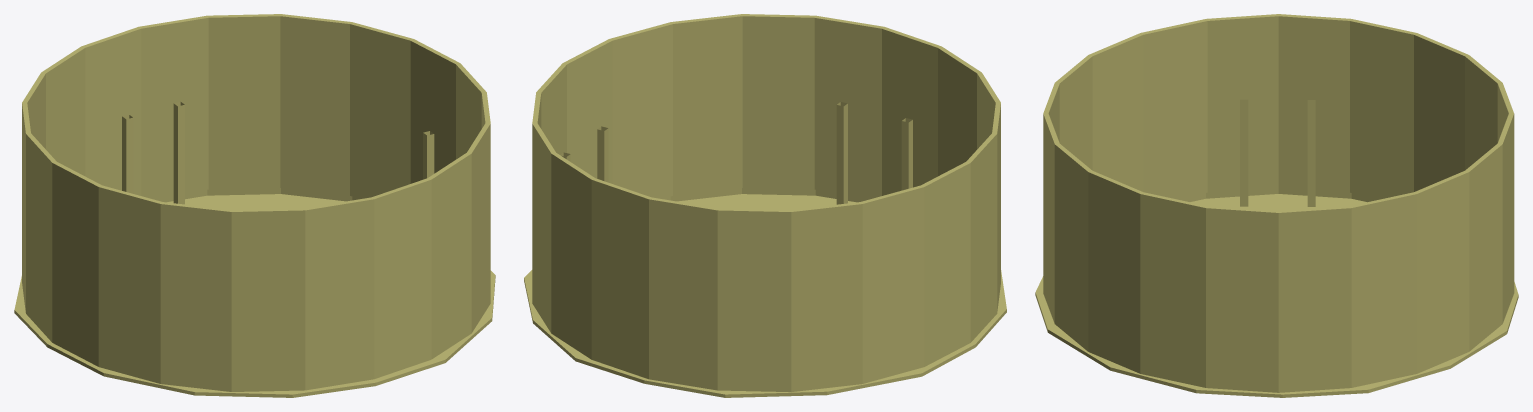
File: Collisions.fbx
3 renders of one model, left to right at view 1: azimuth 30°, elevation 25°; view 2: azimuth 150°, elevation 25°; view 3: azimuth 270°, elevation 25°, orthographic.
Parts seen in each view (by area): view 1: Cube.001; view 2: Cube.001; view 3: Cube.001.
Boxes of the visible parts, x1,y1,x2,y2 form: Cube.001: [14, 14, 495, 397]; Cube.001: [524, 14, 1006, 397]; Cube.001: [1035, 14, 1518, 397].
Bounding box in the file's own units: 3951 × 1663 × 3971.
